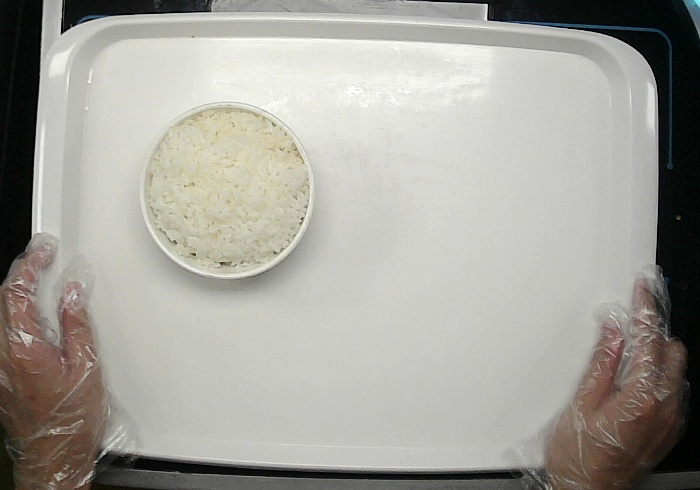HZYJPL-Fan_Wan: (137, 101, 317, 279)
